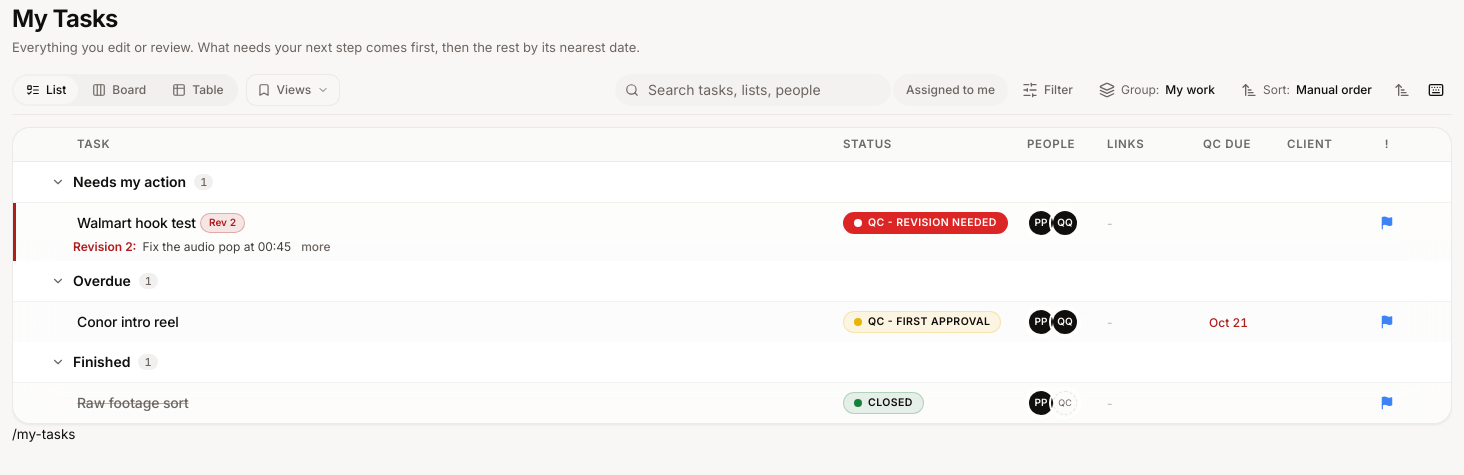
My Tasks › shows the latest revision request under a cut sent back to me: its first line, then "more"
The image size is (1464, 475).
expect the text "Fix the audio pop at 00:45" is shown: met, box x1=142 y1=239 x2=291 y2=255
expect the text "Revision 2:" is shown: met, box x1=73 y1=239 x2=136 y2=255
Click the button "more": (316, 247) x1=297 y1=239 x2=335 y2=255
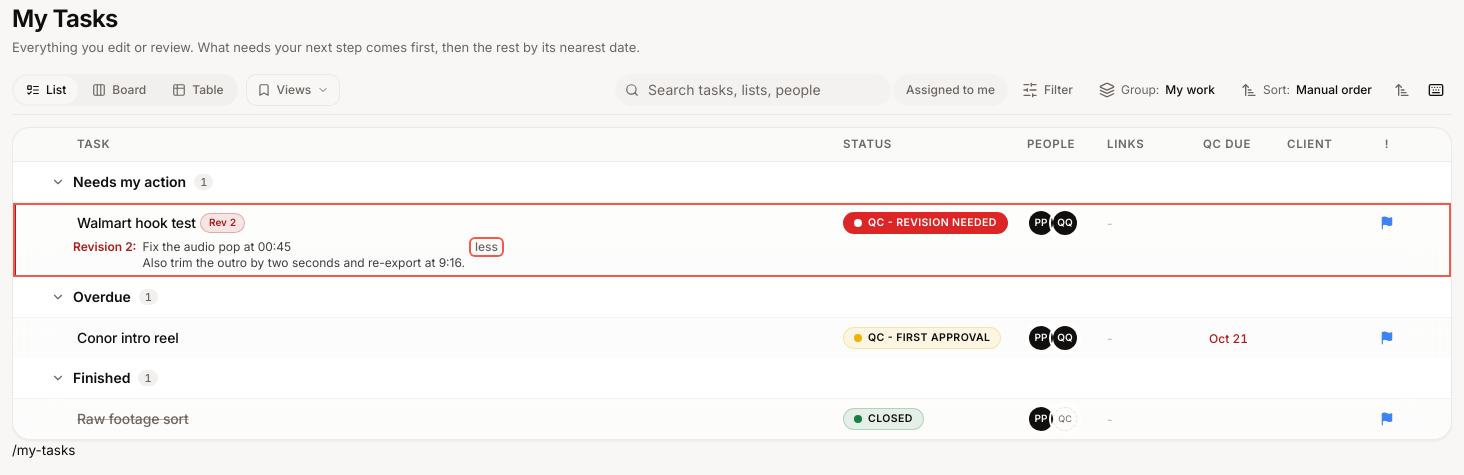
expect the text "trim the outro by two seconds" is shown: met, box x1=142 y1=239 x2=465 y2=270
expect the button "less" is expanded: met, box x1=471 y1=239 x2=502 y2=255
